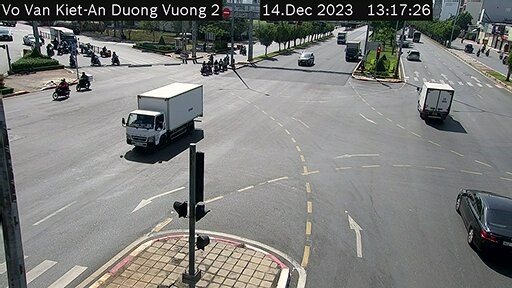car: (458, 186, 512, 251), (298, 50, 317, 64), (409, 47, 422, 59)
motorbike: (72, 72, 91, 95), (51, 81, 66, 102)
truck: (127, 79, 193, 154), (419, 79, 451, 126), (50, 24, 75, 46), (345, 38, 363, 62), (337, 30, 353, 41)
